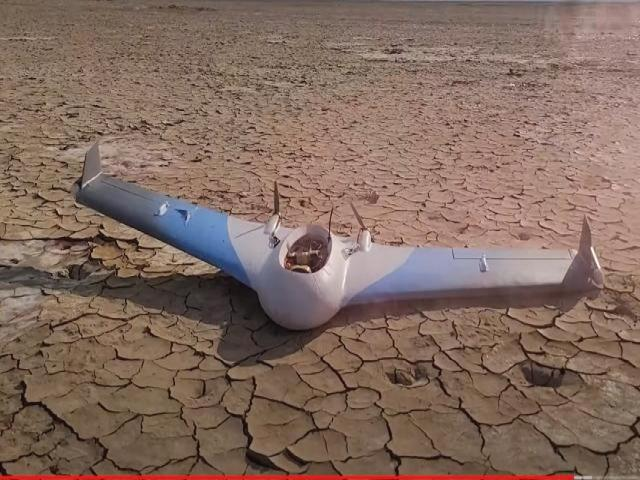iha: (68, 137, 611, 330)
